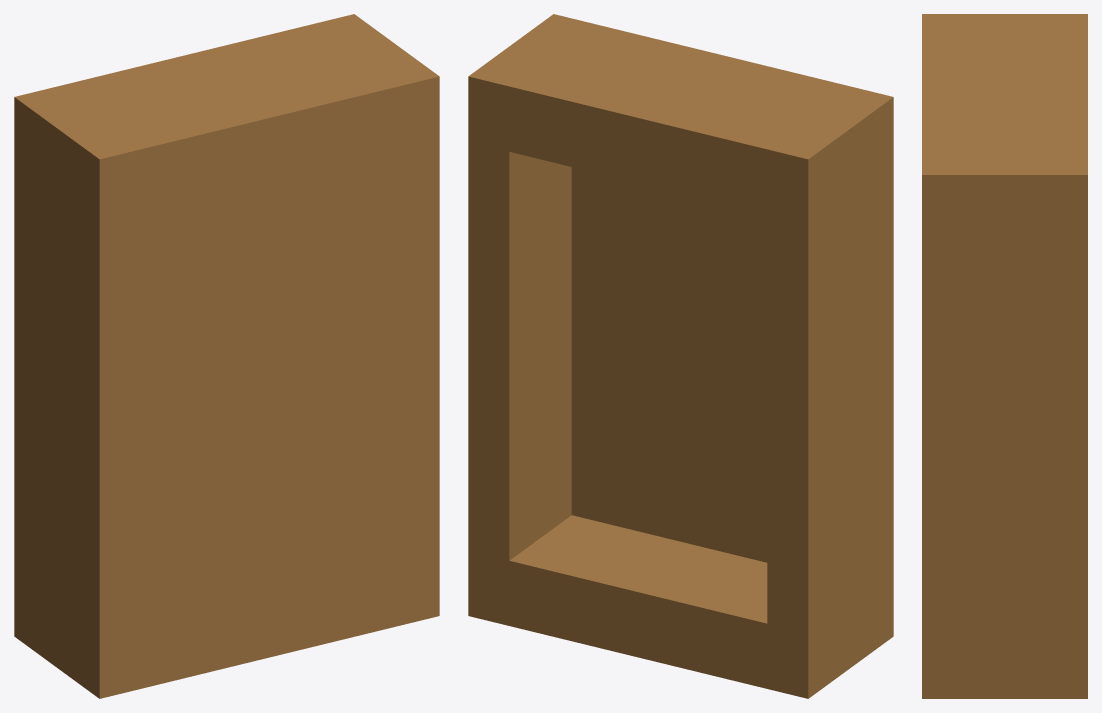
File: kleden kast.fbx
3 renders of one model, left to right at view 1: azimuth 30°, elevation 25°; view 2: azimuth 150°, elevation 25°; view 3: azimuth 270°, elevation 25°, orthographic. The views are drawn at different scales.
Parts seen in each view (by area): view 1: kleden kast; view 2: kleden kast; view 3: kleden kast.
Boxes of the visible parts, x1,y1,x2,y2 form: kleden kast: (14, 14, 439, 698); kleden kast: (468, 14, 893, 698); kleden kast: (922, 14, 1087, 698).
Size of the model in its own units: 2842 by 4309 by 1236.
